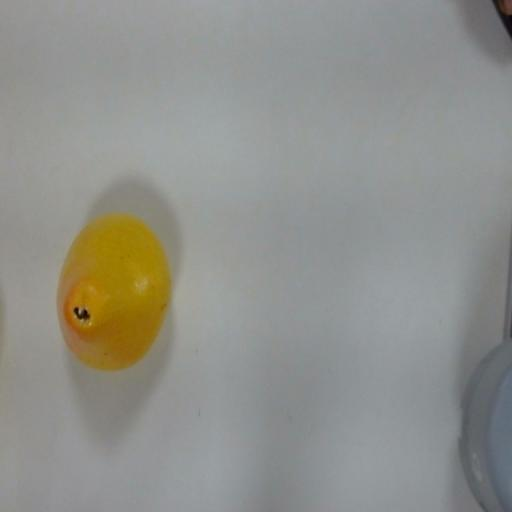Ripe: (54, 211, 174, 376)
